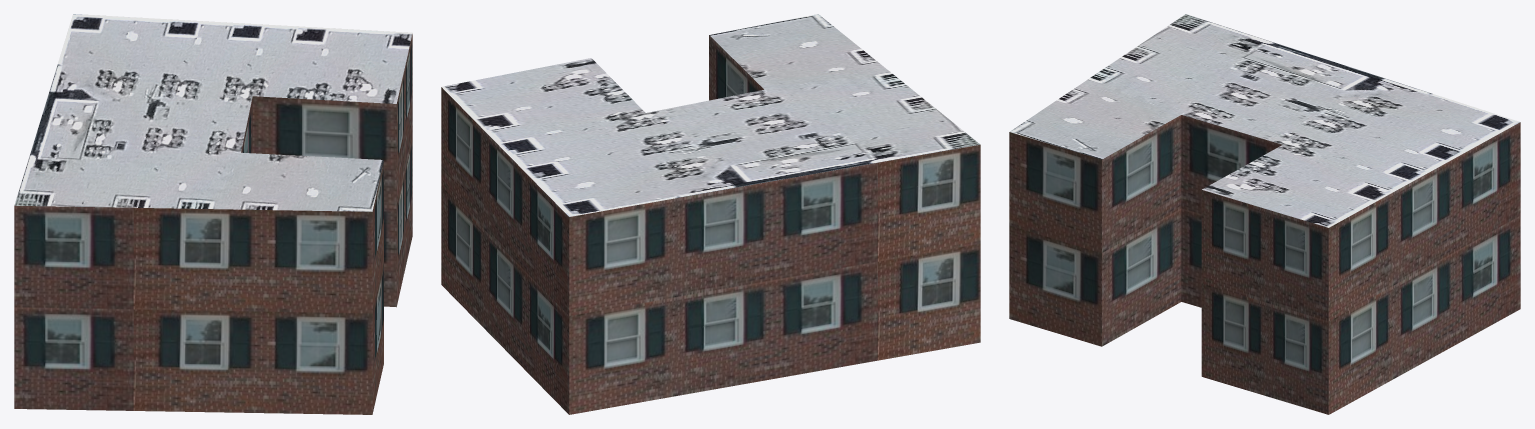
Rendered from ResTex__3283.fbx.
3 views of the same model, side by side, from view 1: azimuth 30°, elevation 25°; view 2: azimuth 150°, elevation 25°; view 3: azimuth 270°, elevation 25° (orthographic). The views are drawn at different scales.
Parts seen in each view (by area): view 1: CityEngineMaterial_14_m, CityEngineMaterial_m; view 2: CityEngineMaterial_14_m, CityEngineMaterial_m; view 3: CityEngineMaterial_14_m, CityEngineMaterial_m.
Part boxes in pixels (x1,y1,x2,y2): CityEngineMaterial_14_m: [14, 34, 412, 414]; CityEngineMaterial_m: [14, 14, 412, 211]; CityEngineMaterial_14_m: [441, 35, 980, 414]; CityEngineMaterial_m: [442, 14, 980, 216]; CityEngineMaterial_14_m: [1009, 115, 1520, 414]; CityEngineMaterial_m: [1010, 14, 1520, 227].
Bounding box in the file's own units: 14.72 × 6 × 14.86.
2 materials, 2 textured.
